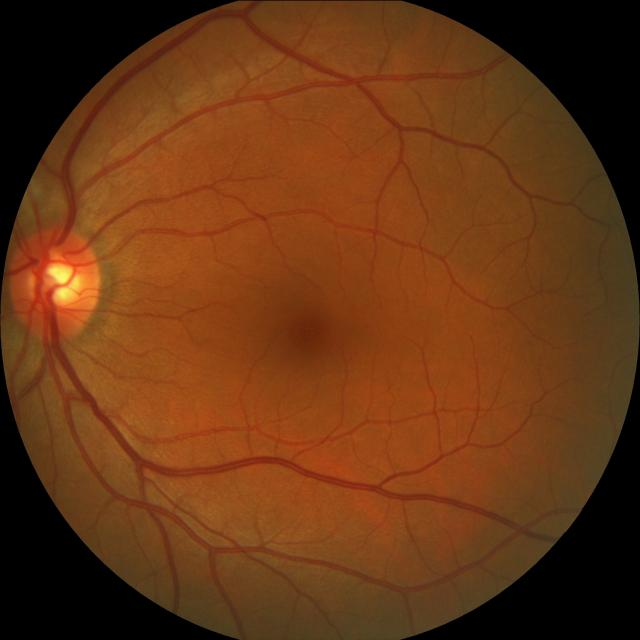OC: (30, 253, 83, 309)
OD: (6, 224, 100, 338)
